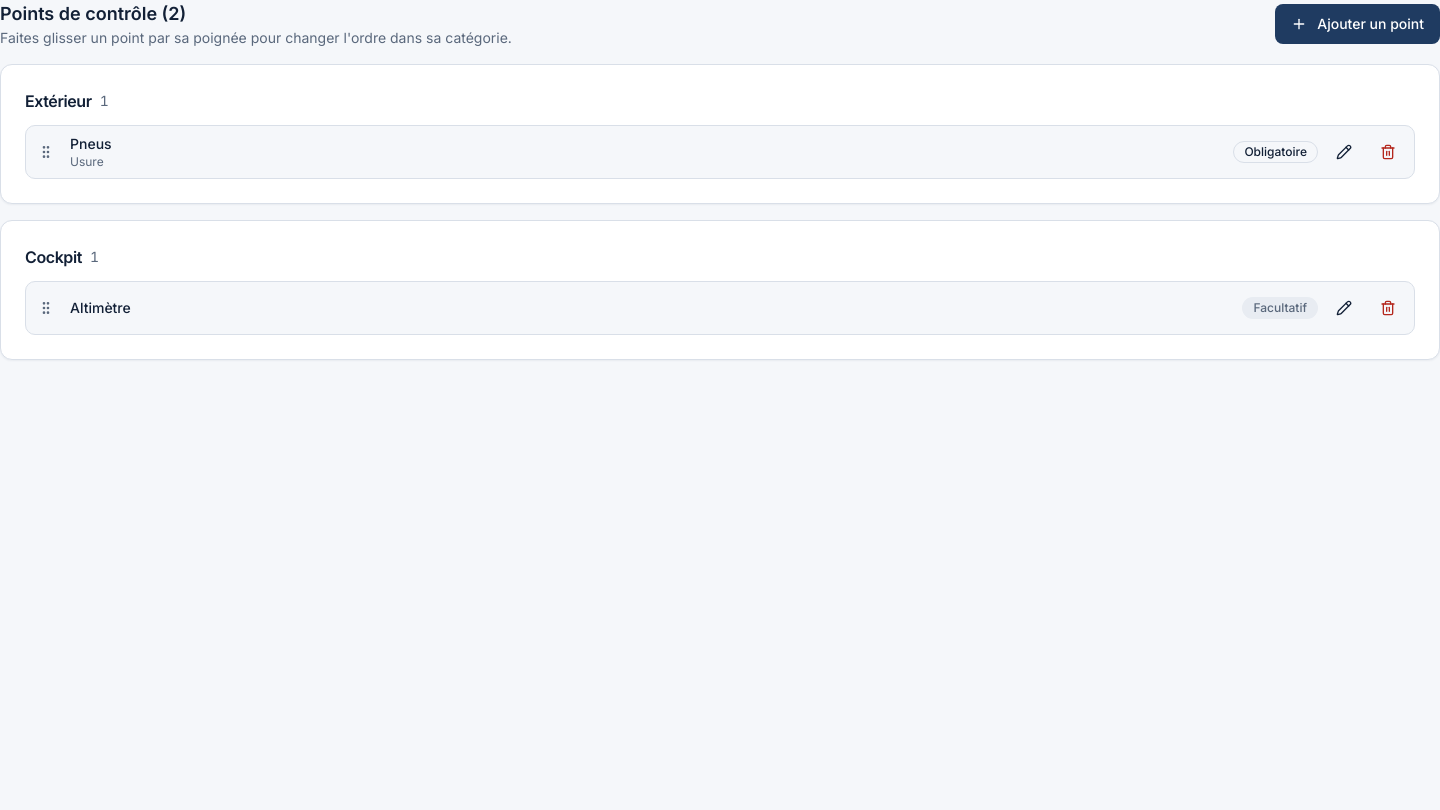
Test: ChecklistTemplateEditor › préremplit le formulaire et enregistre la modification d'un item
The image size is (1440, 810).
Click the button named "Modifier le point Pneus": (1344, 152) [1326,134,1362,170]
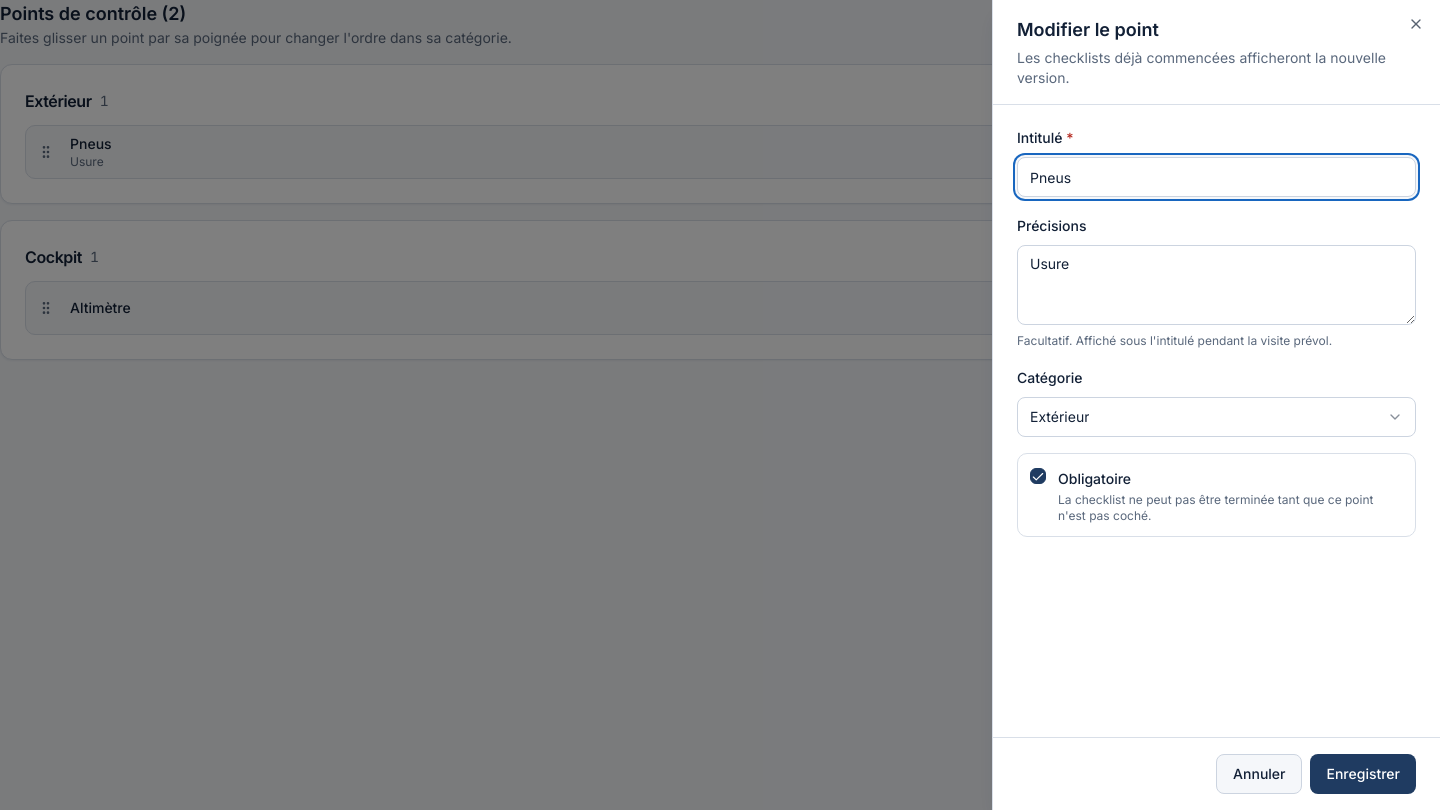
Check: the field labelled "Intitulé *" holds "Pneus"
Check: the text box labelled "Précisions" holds "Usure", box [1017,245,1416,325]
Check: the checkbox named "Obligatoire" is checked, box [1030,468,1046,484]
Replace the text in the field labelled "Intitulé *" with "Pneus et freins": (1216, 177) [1017,157,1416,197]
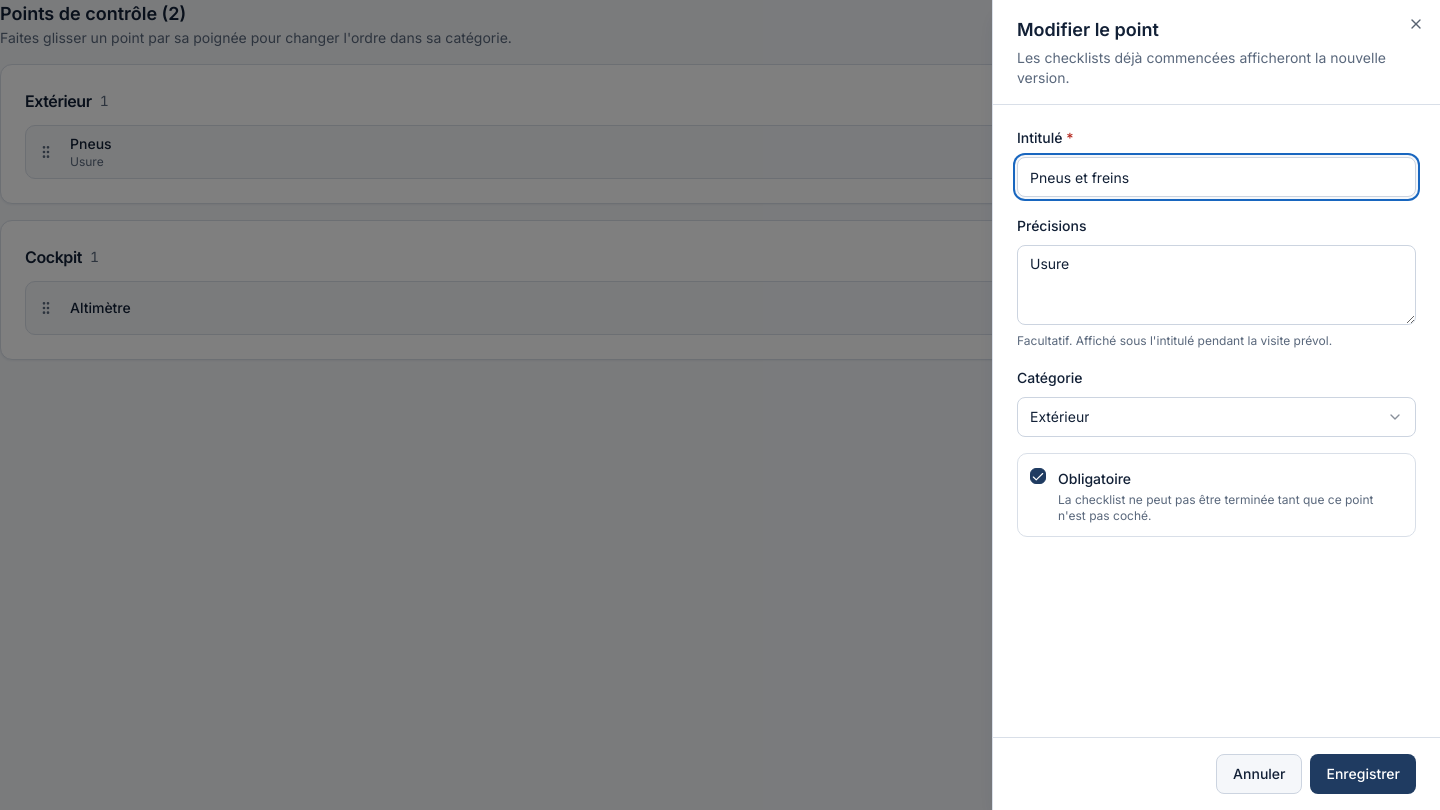
Click the checkbox named "Obligatoire": (1038, 476) [1030,468,1046,484]
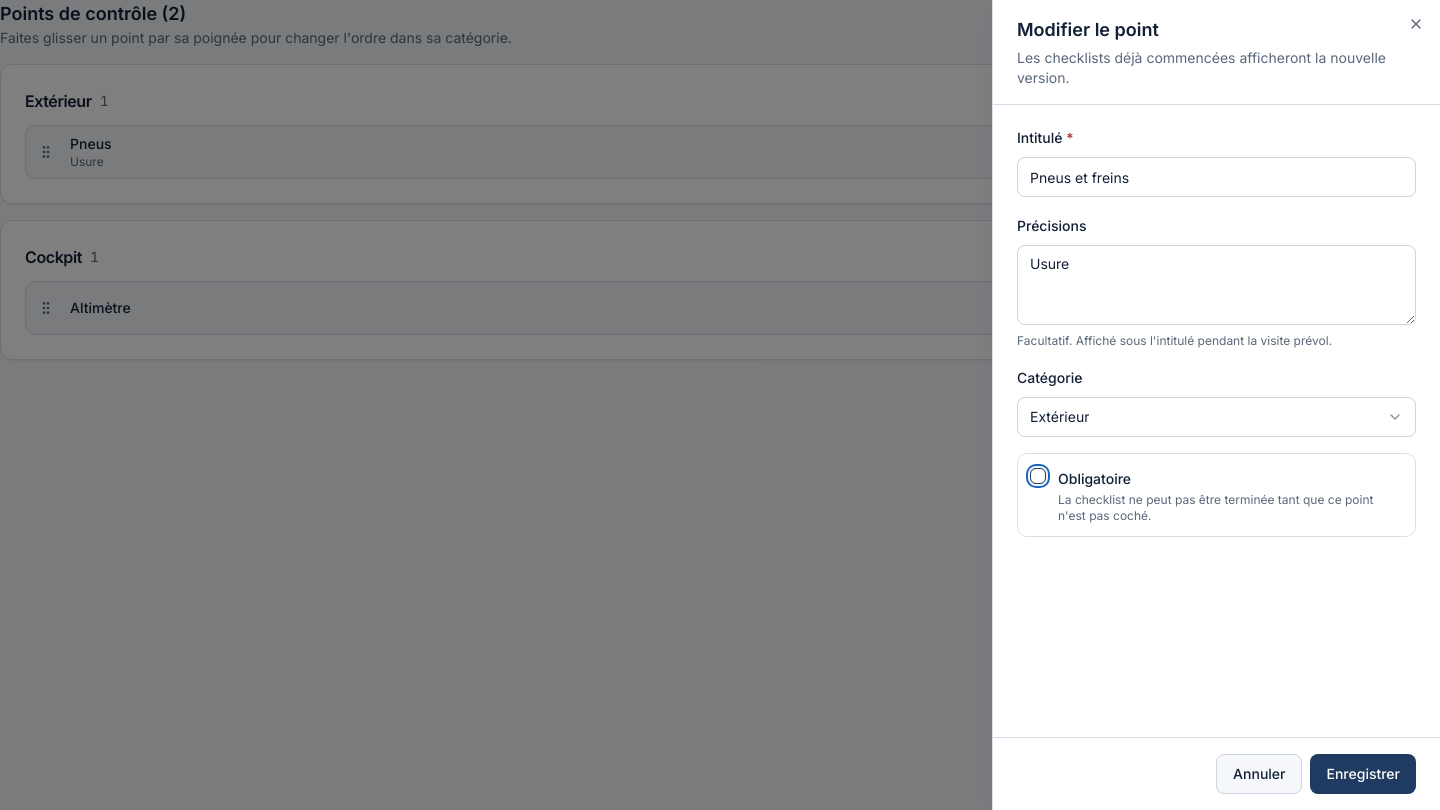
Click the button "Enregistrer": (1363, 774) [1310,754,1416,794]
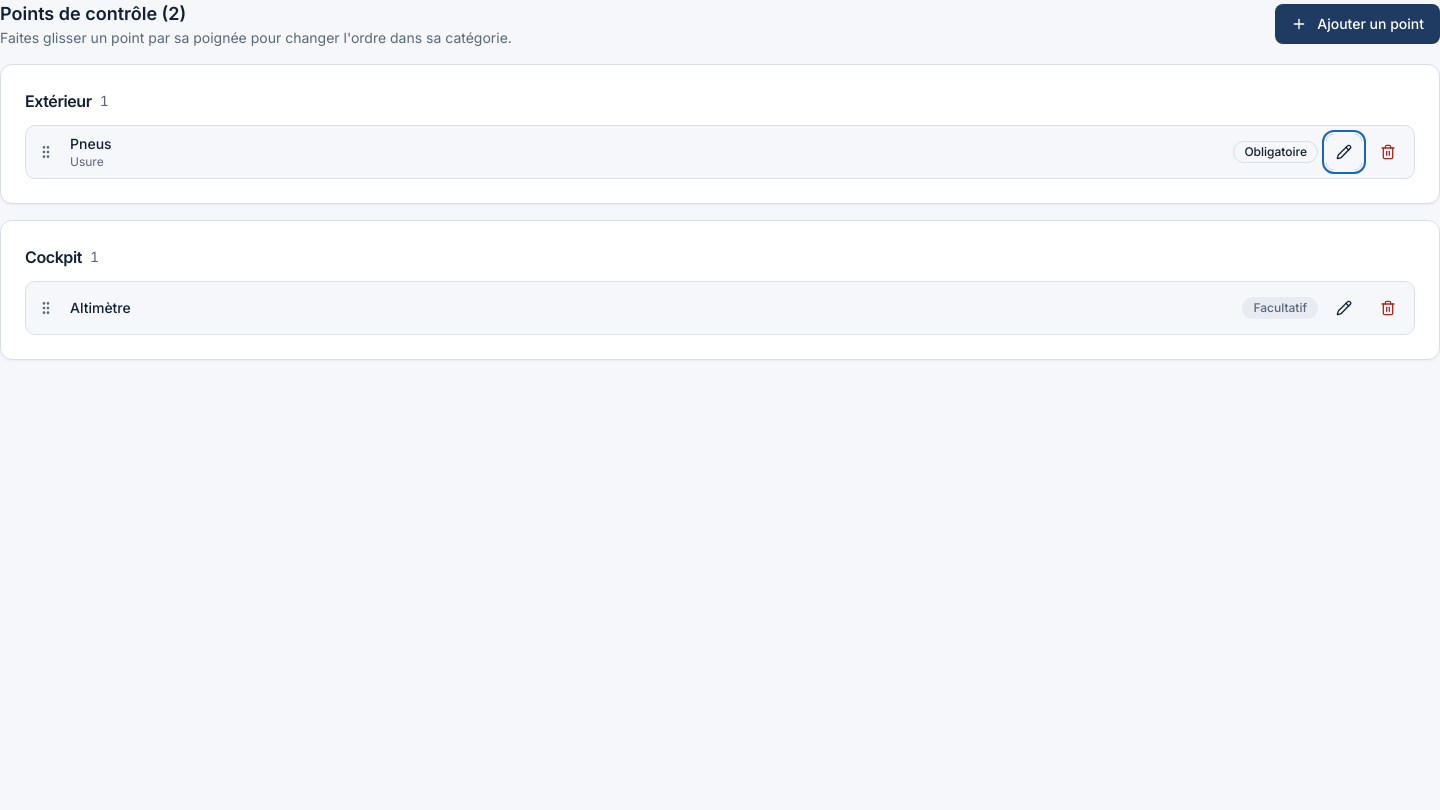
Check: the label labelled "Intitulé" is gone
